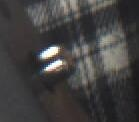screw: (30, 41, 78, 92), (0, 0, 40, 7)
